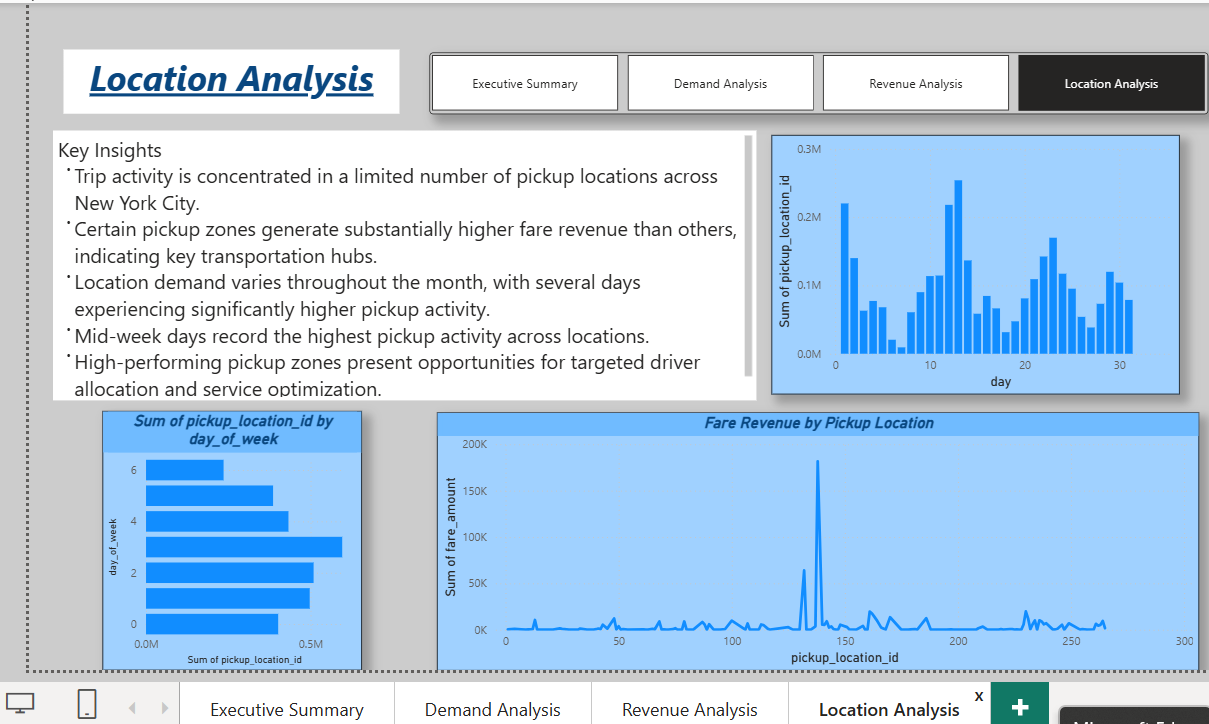

The dashboard page shown, as its layout file describes it:
{"tool":"powerbi","page":{"name":"Location Analysis","canvas":[1280,720],"ordinal":3},"visuals":[{"type":"barChart","fields":{"Y":["Sum(uber_small.pickup_location_id)"],"Category":["uber_small.day_of_week"]},"box":[79.3,440.4,280.1,280.1],"z":0},{"type":"lineChart","title":"Fare Revenue by Pickup Location","fields":{"Category":["uber_small.pickup_location_id"],"Y":["Sum(uber_small.fare_amount)"]},"box":[440.4,442,822.6,278.5],"z":1000},{"type":"clusteredColumnChart","fields":{"Y":["Sum(uber_small.pickup_location_id)"],"Category":["uber_small.day"]},"box":[801.5,142.5,440.4,280.1],"z":2000},{"type":"textbox","box":[37.2,50.2,362.7,69.6],"z":3000},{"type":"pageNavigator","box":[432.3,53.4,840.4,66.4],"z":4000},{"type":"textbox","box":[25.9,137.6,759.4,291.5],"z":5000}]}

Visuals, with their boxes on the page's 1280x720 design canvas (x1, y1, x2, y2). These are canvas units, not pixel positions in the 1209x724 screenshot, which may show the page scaled, cropped or inside an application window:
barChart - Sum(uber_small.pickup_location_id) x uber_small.day_of_week: 79/440/359/720
"Fare Revenue by Pickup Location" lineChart: 440/442/1263/720
clusteredColumnChart - Sum(uber_small.pickup_location_id) x uber_small.day: 802/142/1242/423
textbox: 37/50/400/120
pageNavigator: 432/53/1273/120
textbox: 26/138/785/429
